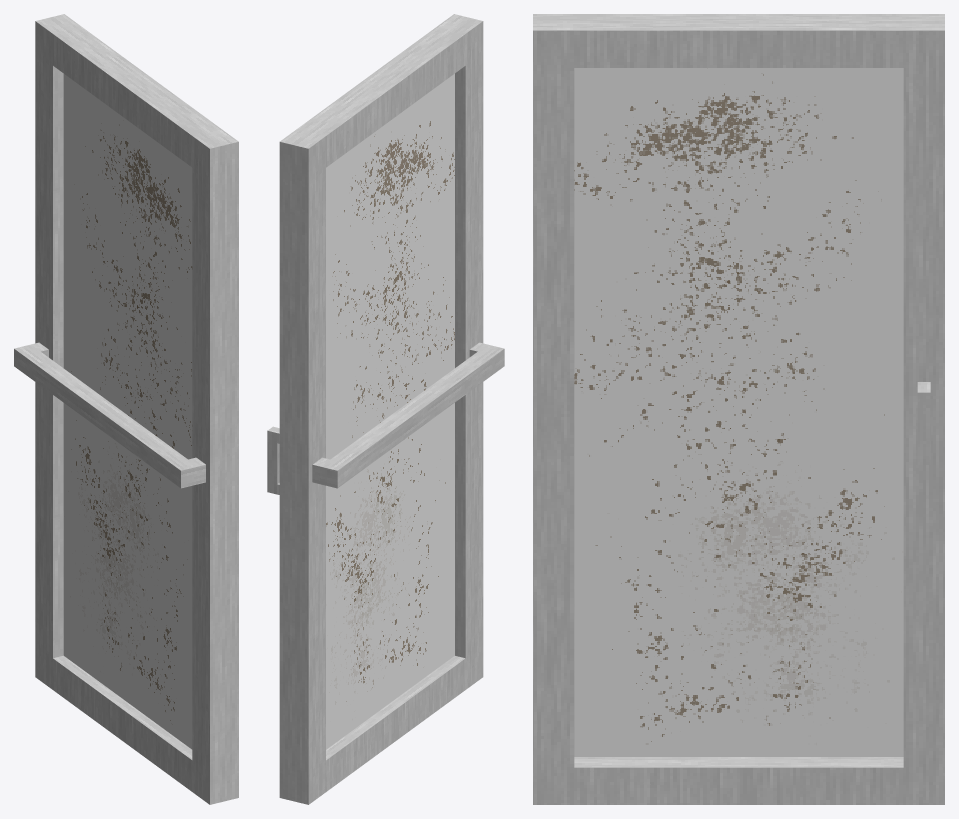
The model's file is door_exterior.glb.
3 views of the same model, side by side, from view 1: azimuth 30°, elevation 25°; view 2: azimuth 150°, elevation 25°; view 3: azimuth 270°, elevation 25° (orthographic). The views are drawn at different scales.
Visible parts, largest first — view 1: Cube.001; view 2: Cube.001; view 3: Cube.001.
Boxes of the visible parts, x1,y1,x2,y2 form: Cube.001: (14,14,238,804); Cube.001: (267,14,504,804); Cube.001: (533,14,944,804).
Size of the model in its own units: 0.2393 by 2.08 by 1.
2 materials, 2 textured.
